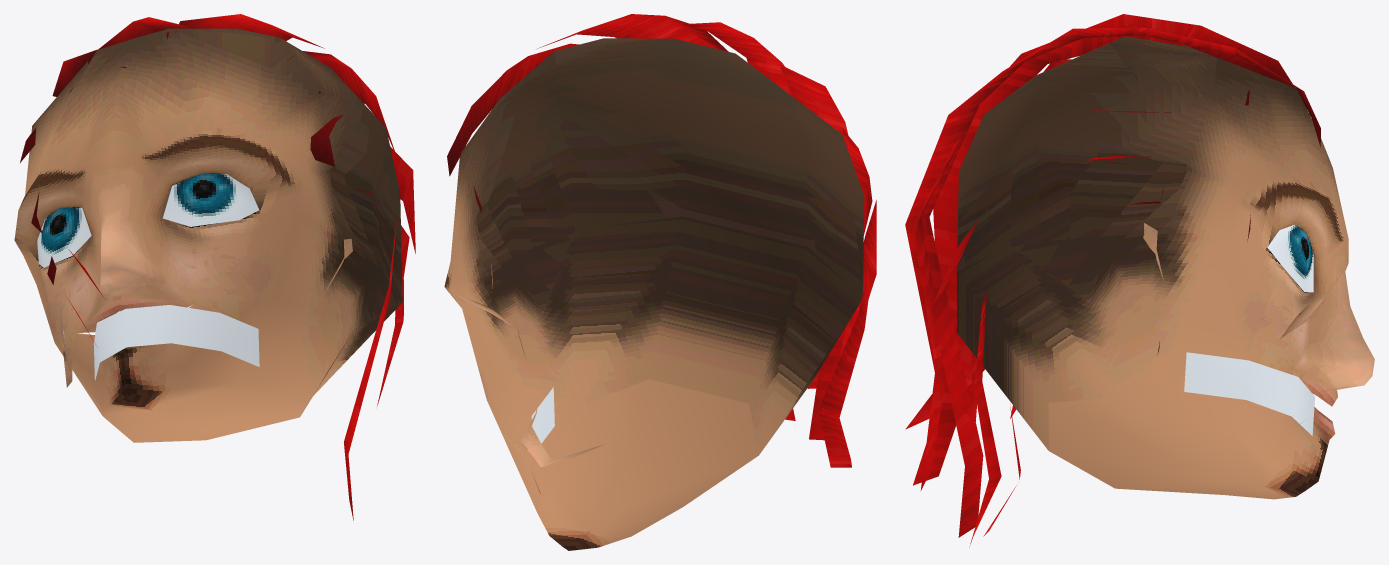
Rendered from ps2_save-icons_havencalloftheking.glb.
3 views of the same model, side by side, from view 1: azimuth 30°, elevation 25°; view 2: azimuth 150°, elevation 25°; view 3: azimuth 270°, elevation 25° (orthographic). The views are drawn at different scales.
Visible parts, largest first — view 1: haven.ico; view 2: haven.ico; view 3: haven.ico.
Boxes of the visible parts, bbox=[...] form: haven.ico: bbox=[14, 14, 415, 520]; haven.ico: bbox=[444, 14, 876, 550]; haven.ico: bbox=[905, 14, 1374, 546].
Bounding box in the file's own units: 2.83 × 3.57 × 3.26.
Materials: 1 (1 with a texture image).
